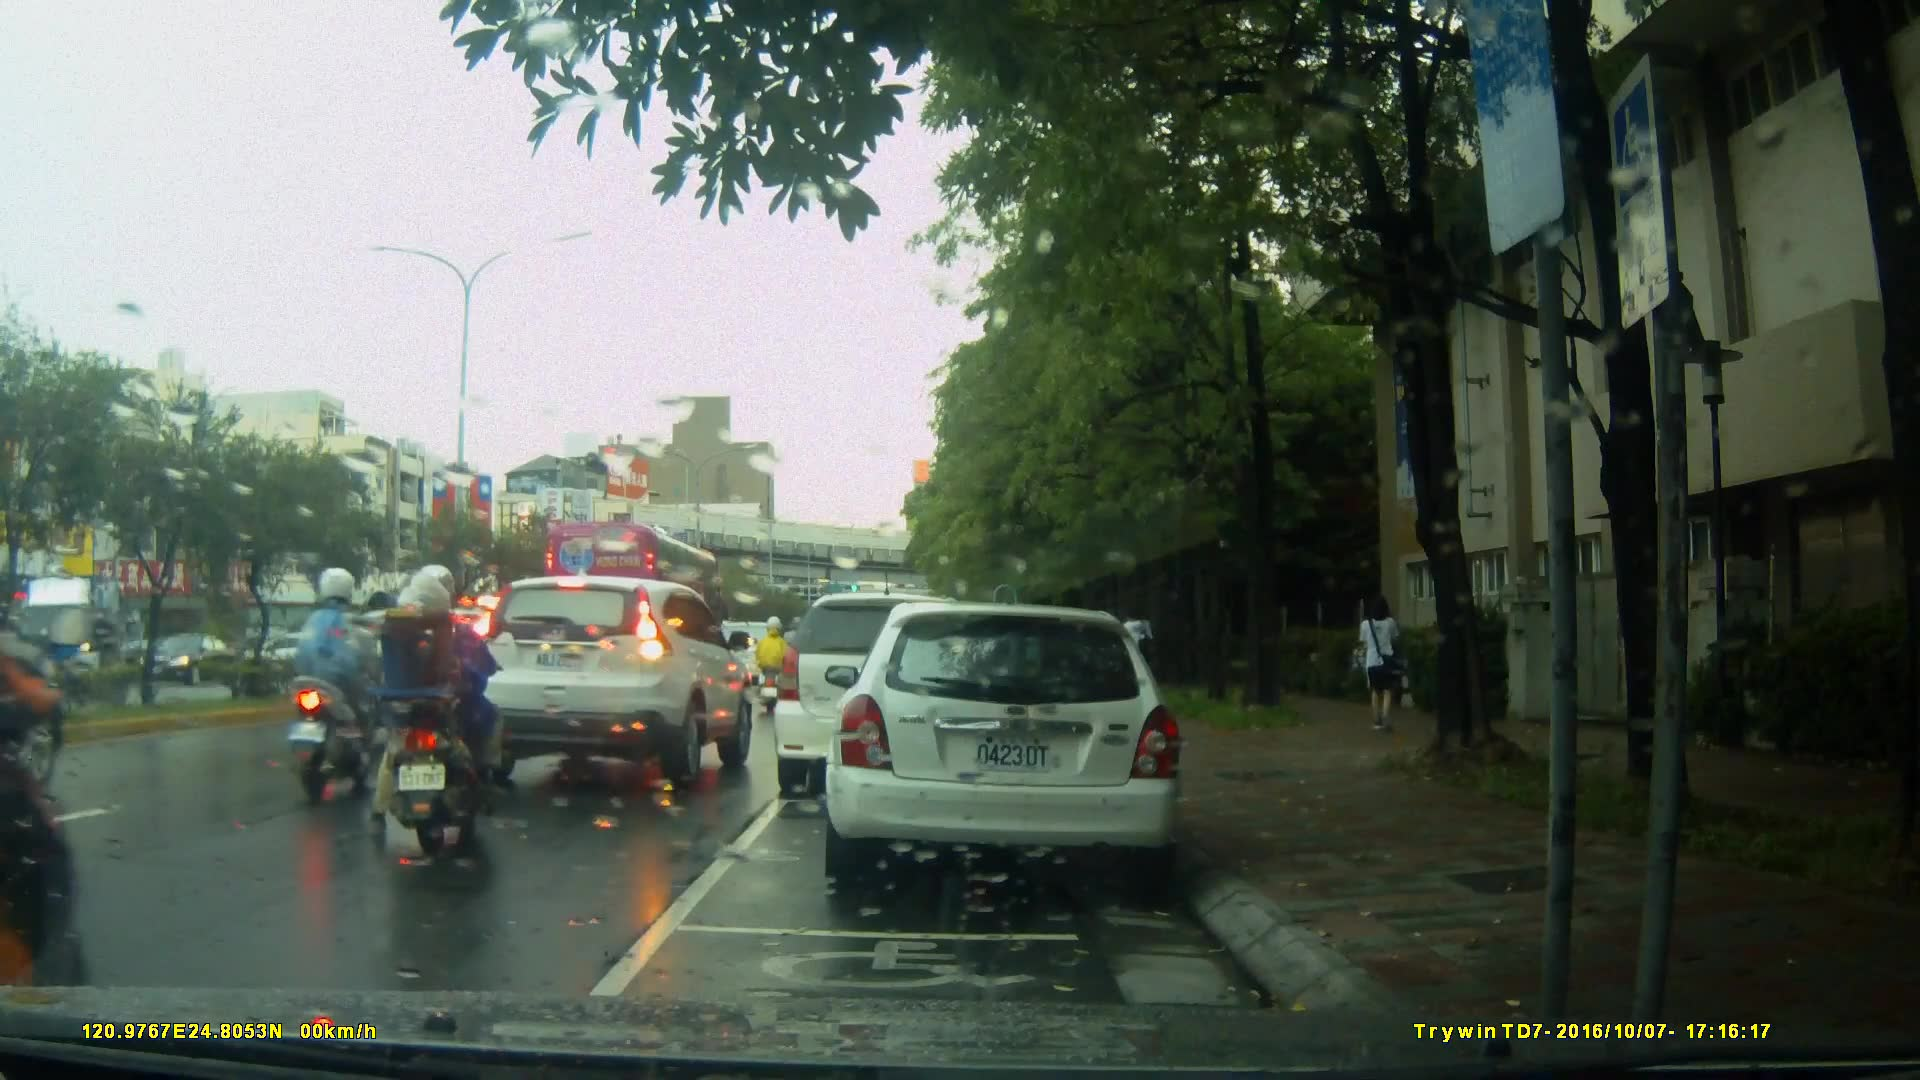pedestrian: (1345, 584, 1413, 749), (1119, 601, 1159, 694)
rider: (339, 559, 505, 847), (296, 573, 383, 797), (757, 614, 790, 713)
vehicle: (835, 594, 1194, 898), (466, 576, 764, 792), (776, 590, 1026, 784), (539, 518, 728, 641), (20, 573, 129, 686)
